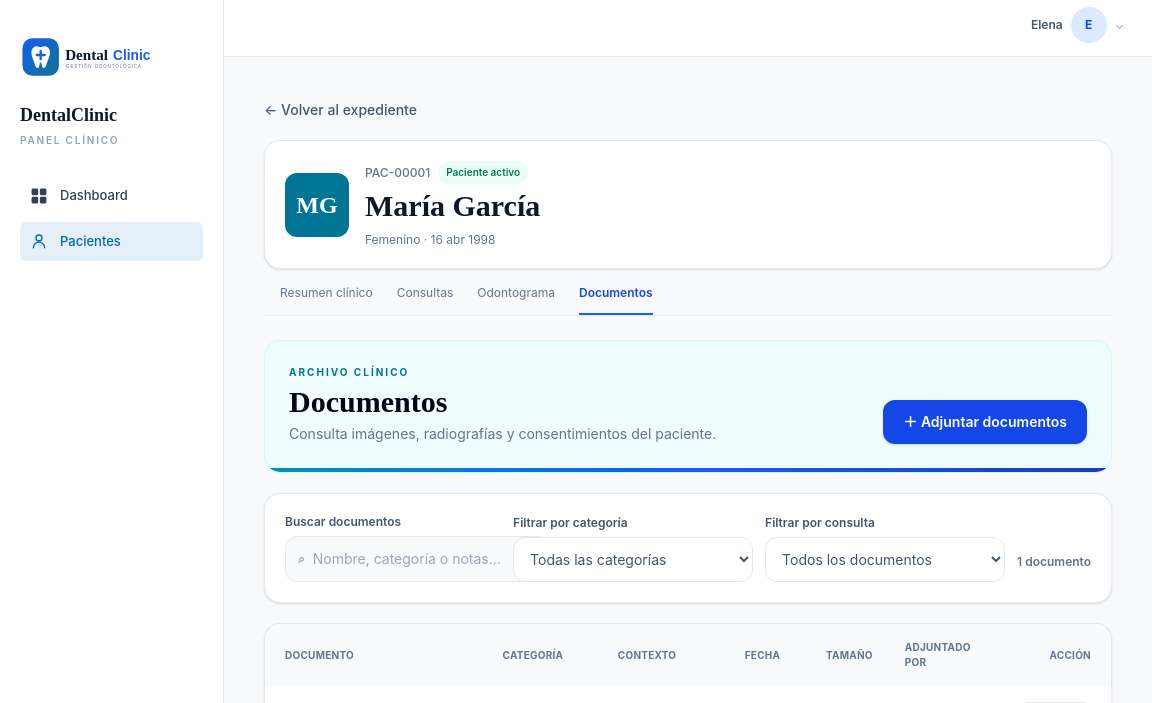
patient documents page › [HU-32] keeps clinical photos in the repository with filter and authenticated image preview
Select "Fotografía clínica" in the dropdown labelled "Filtrar por categoría" at [633, 560], box [513,537,753,582]
(page scrolled)
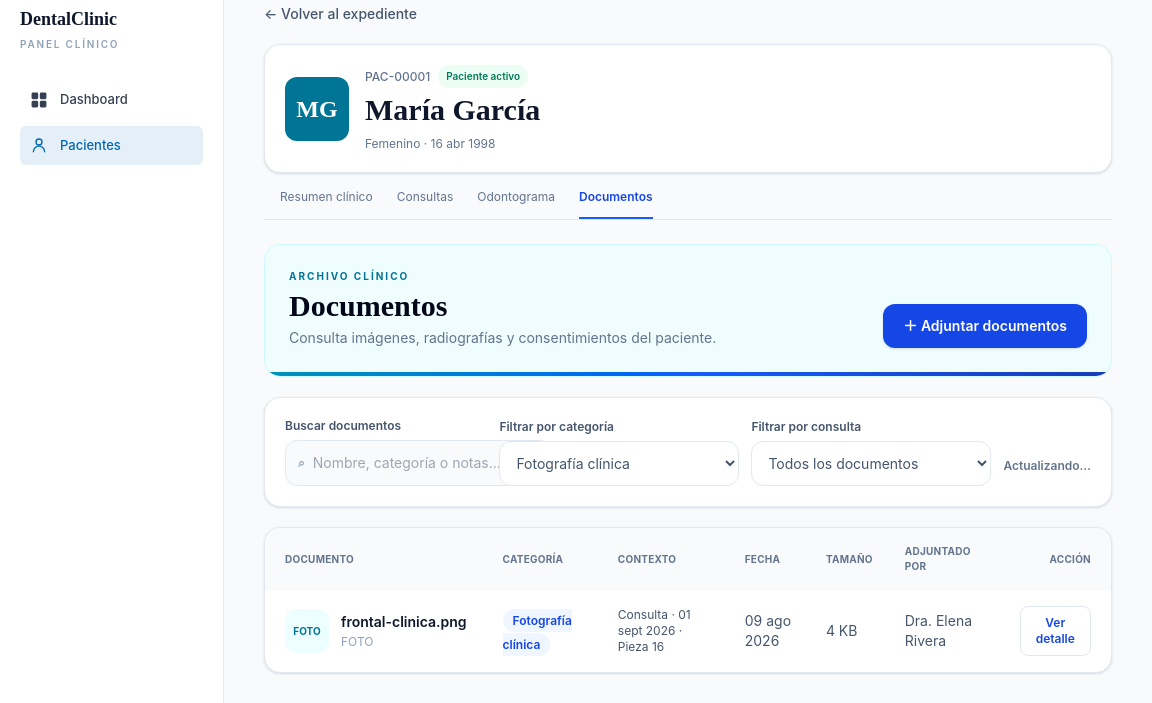
Click the button with aria-label "Ver frontal-clinica.png" at [1055, 631], box [1020,606,1091,656]
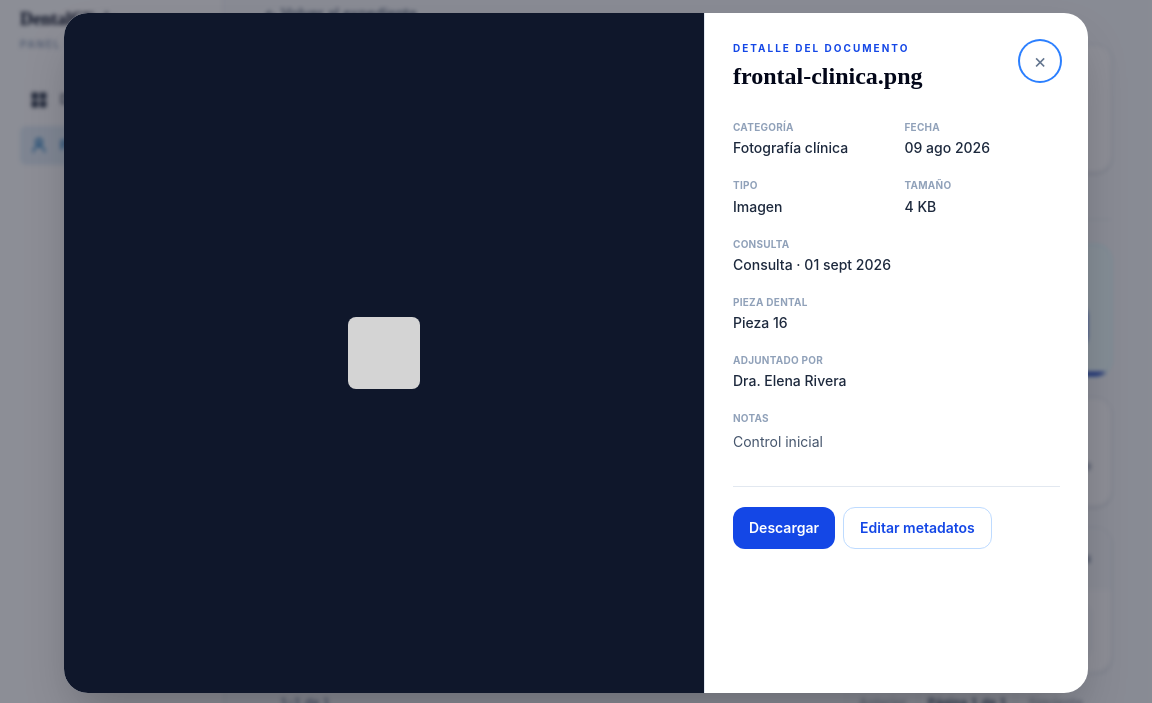
expect the dialog "Detalle del documento" is shown: met
